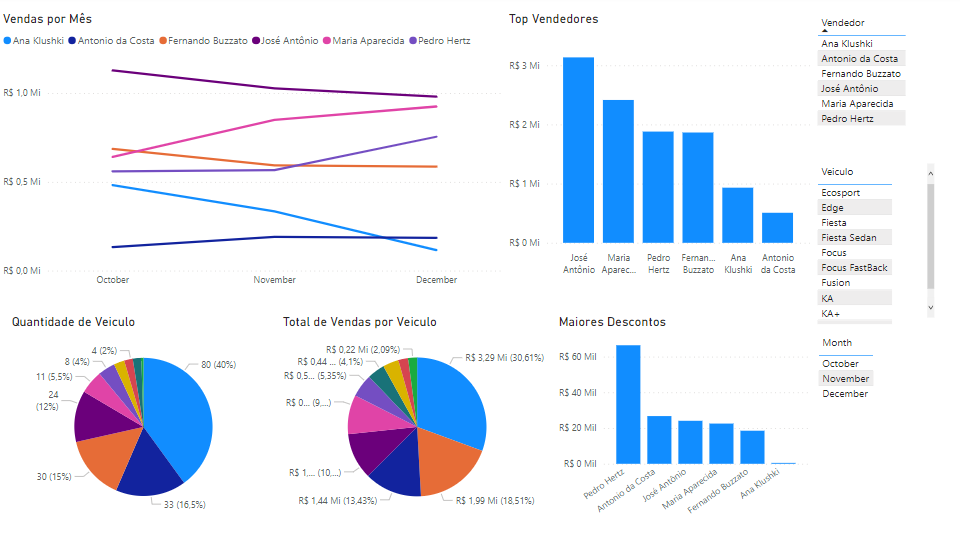

The page's visual inventory and layout, read from the dashboard file:
{"tool":"powerbi","page":{"name":"Vendas","canvas":[1280,720],"ordinal":0},"visuals":[{"type":"clusteredColumnChart","title":"Top Vendedores","fields":{"Y":["Plan1.ValorVenda"],"Category":["Plan1.Vendedor"]},"box":[671.9,20.2,409.9,374.6],"z":0},{"type":"lineChart","title":"Vendas por Mês","fields":{"Category":["Plan1.DataVenda.Variation.Date Hierarchy.Month"],"Y":["Plan1.ValorVenda"],"Series":["Plan1.Vendedor"]},"box":[0,20.2,671.9,374.6],"z":1000},{"type":"clusteredColumnChart","title":"Maiores Descontos","fields":{"Y":["Plan1.Descontos"],"Category":["Plan1.Vendedor"]},"box":[739,422.9,342.4,281],"z":2000},{"type":"pieChart","title":"Quantidade de Veiculo ","fields":{"Y":["Plan1.Veiculo"],"Category":["Plan1.Veiculo"]},"box":[11.7,422.9,360,281],"z":3000},{"type":"pieChart","title":"Total de Vendas por Veiculo","fields":{"Category":["Plan1.Veiculo"],"Y":["Plan1.ValorVenda"]},"box":[371.7,422.9,367.3,281],"z":4000},{"type":"tableEx","fields":{"Values":["Plan1.Vendedor"]},"box":[1081.8,20.2,166.3,198.2],"z":5000},{"type":"tableEx","fields":{"Values":["Plan1.Veiculo"]},"box":[1081.8,218.4,166.3,223.4],"z":6000},{"type":"tableEx","fields":{"Values":["Plan1.DataVenda.Variation.Date Hierarchy.Month"]},"box":[1082.9,444.9,197.6,275.1],"z":7000}]}

Visuals, with their boxes in screenshot pixels (x1, y1, x2, y2), scaled from the page's 1280x720 canvas onto the 960x537 screenshot:
"Top Vendedores" clusteredColumnChart: [504, 15, 811, 294]
"Vendas por Mês" lineChart: [0, 15, 504, 294]
"Maiores Descontos" clusteredColumnChart: [554, 315, 811, 525]
"Quantidade de Veiculo " pieChart: [9, 315, 279, 525]
"Total de Vendas por Veiculo" pieChart: [279, 315, 554, 525]
tableEx - Plan1.Vendedor: [811, 15, 936, 163]
tableEx - Plan1.Veiculo: [811, 163, 936, 330]
tableEx - Plan1.DataVenda.Variation.Date Hierarchy.Month: [812, 332, 959, 536]
